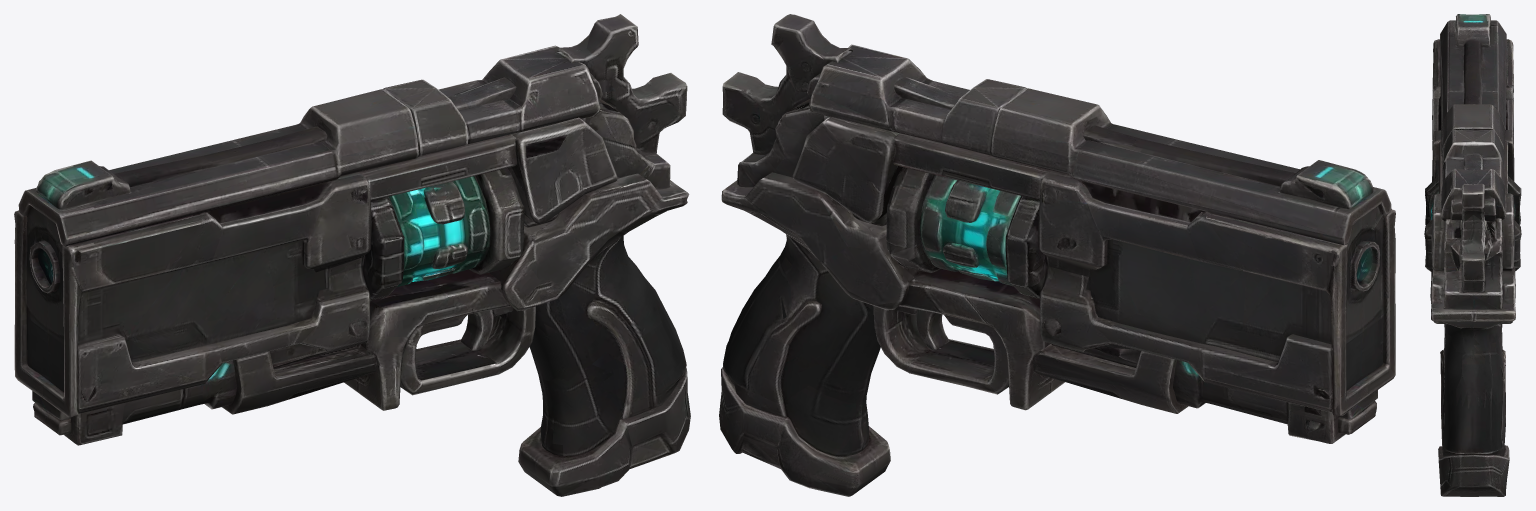
The model's file is pistol_heavy_opt.glb.
3 renders of one model, left to right at view 1: azimuth 30°, elevation 25°; view 2: azimuth 150°, elevation 25°; view 3: azimuth 270°, elevation 25°, orthographic. The views are drawn at different scales.
Size of the model in its own units: 1 by 0.6699 by 0.1895.
Materials: 1 (1 with a texture image).
